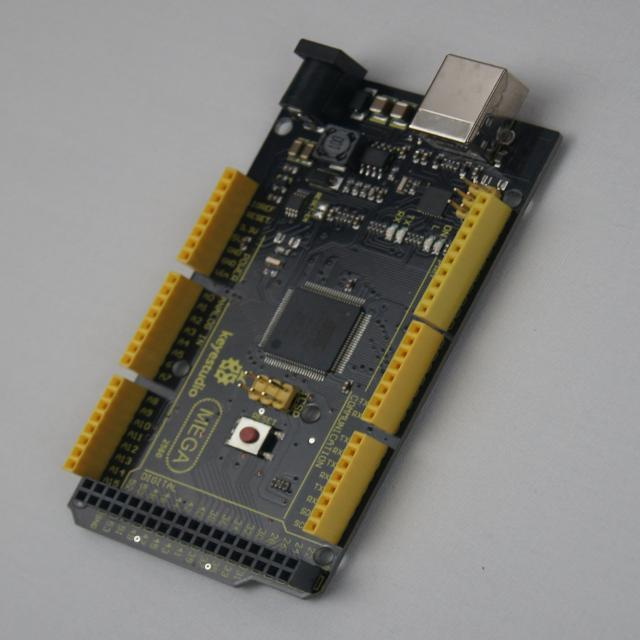Arduino Mega 2560 -Yellow-: (66, 40, 560, 597)
